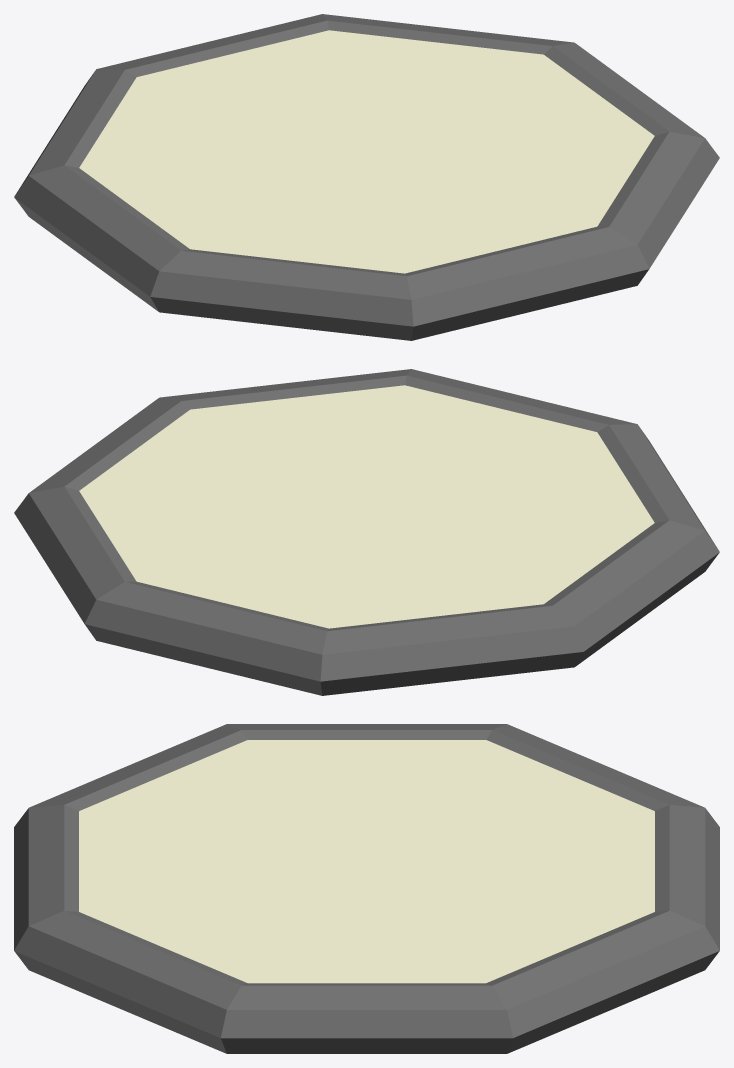
Rendered from spotlight.fbx.
3 renders of one model, top to bottom at view 1: azimuth 30°, elevation 25°; view 2: azimuth 150°, elevation 25°; view 3: azimuth 270°, elevation 25°, orthographic. The views are drawn at different scales.
Parts seen in each view (by area): view 1: cylinder, torus; view 2: cylinder, torus; view 3: cylinder, torus.
Boxes of the visible parts, bbox=[...] form: cylinder: bbox=[79, 30, 654, 273]; torus: bbox=[14, 14, 719, 340]; cylinder: bbox=[79, 385, 654, 628]; torus: bbox=[14, 369, 719, 695]; cylinder: bbox=[79, 740, 654, 983]; torus: bbox=[14, 724, 719, 1053].
Bounding box in the file's own units: 21.88 × 2.13 × 21.88.
Materials: 1 (1 with a texture image).
